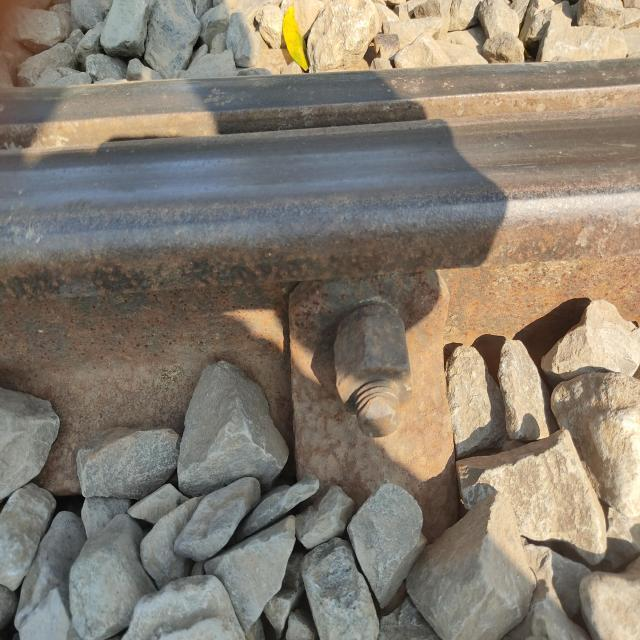squats_high: (204, 84, 236, 109), (391, 76, 425, 98), (443, 78, 455, 90), (498, 80, 508, 90), (600, 69, 608, 81)
